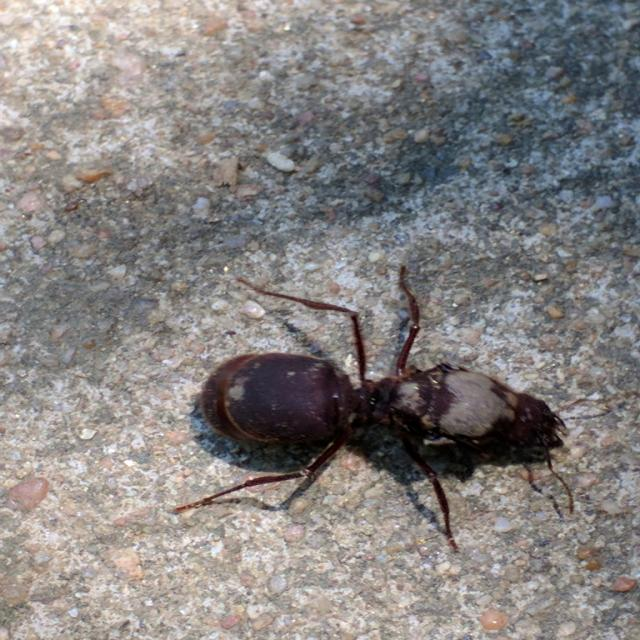Alive-Female-Dealate: (172, 264, 640, 550)
